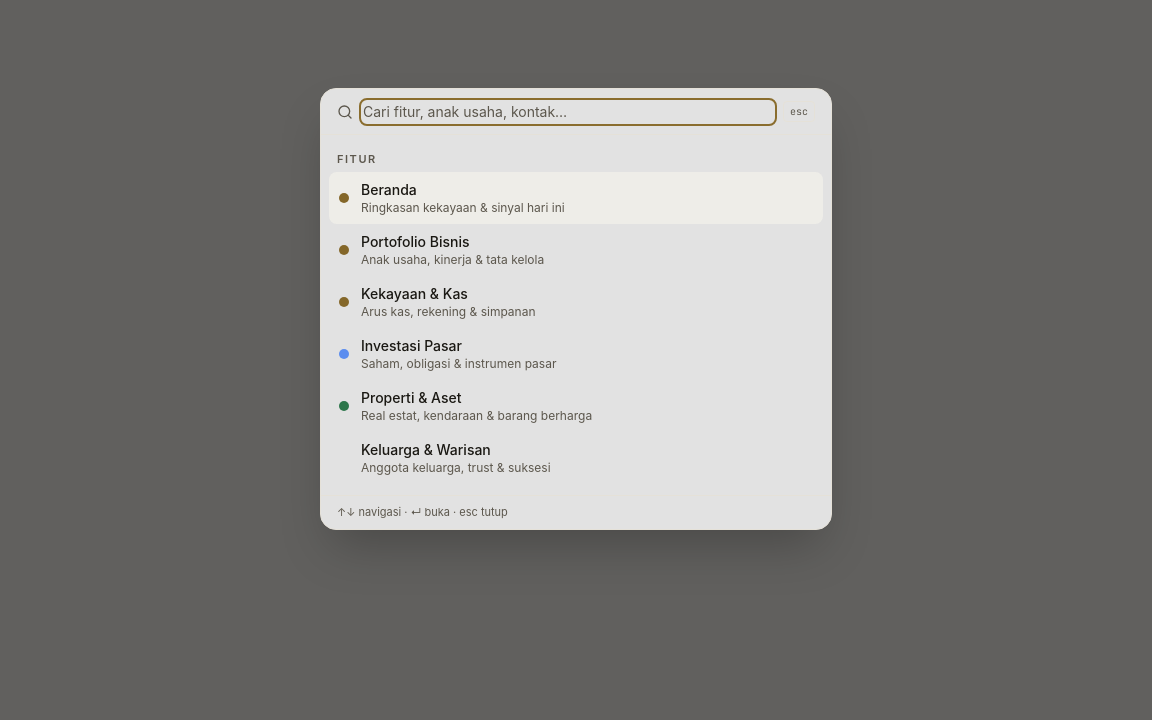
Test case: CommandPalette › matches a feature by its subtitle text, not just the label
Beranda's subtitle is "Ringkasan kekayaan & sinyal hari ini".
Type "sinyal hari ini" into the dropdown at x=568, y=112, box [363,102,773,122]
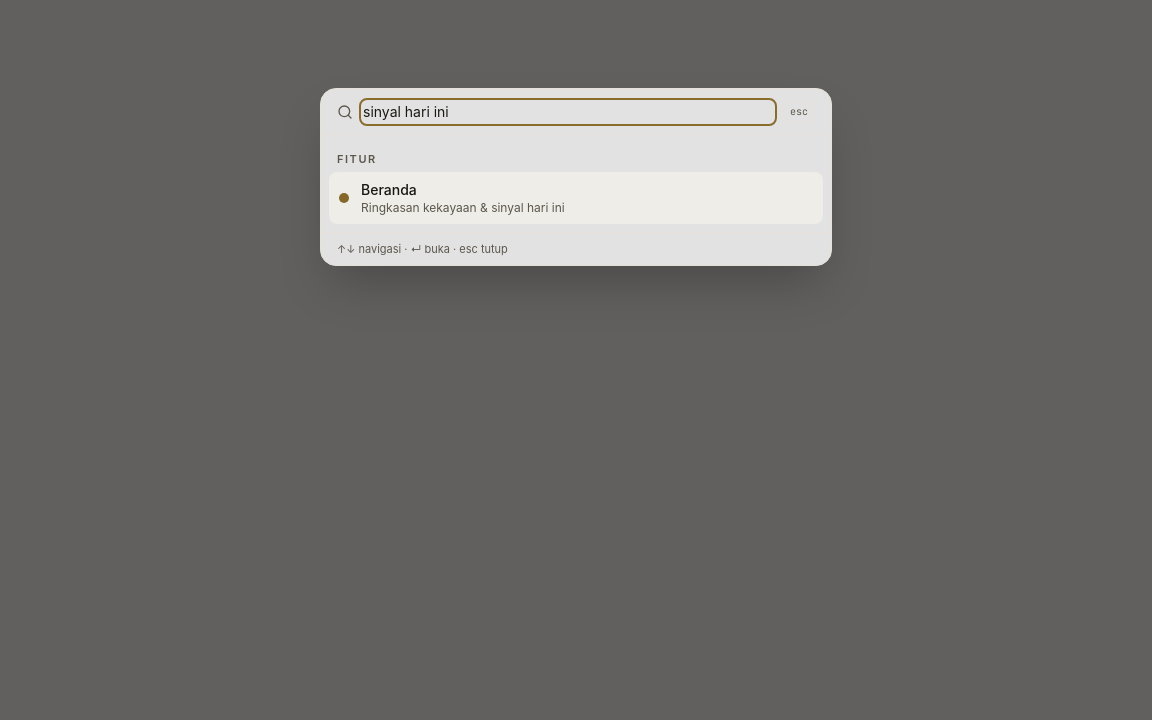
Expected: the option "Beranda Ringkasan kekayaan & sinyal hari ini" is shown, [329,172,823,224]
Expected: the option "Portofolio Bisnis" is gone
